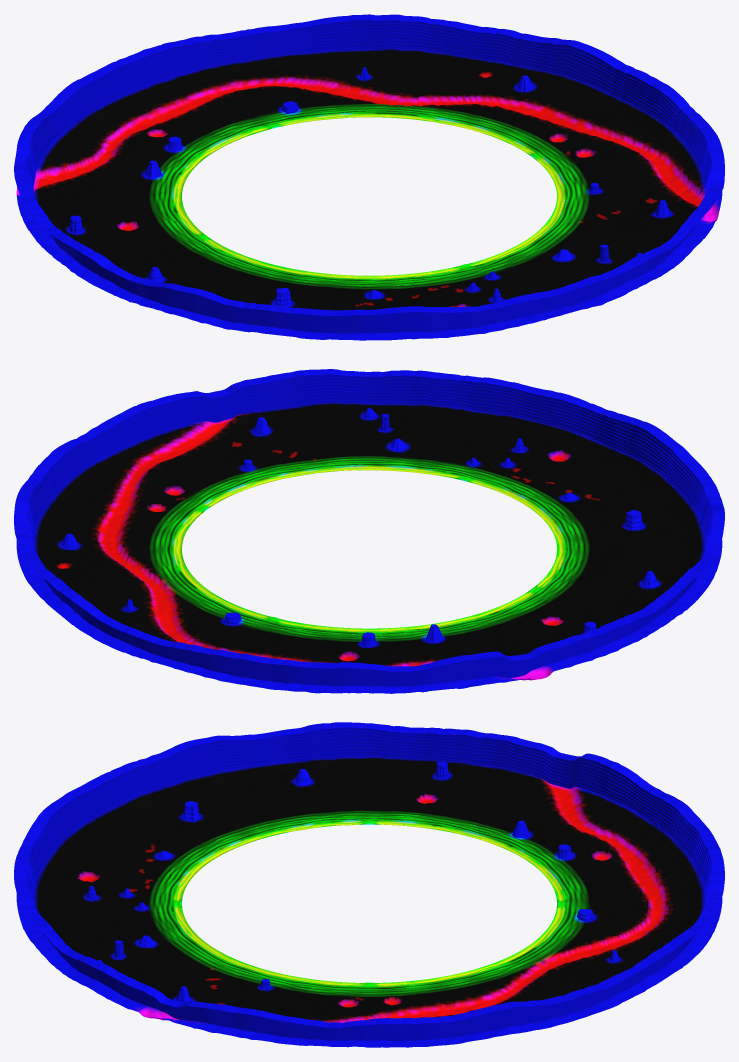
Rendered from concordia_terrain_exterior.glb.
3 views of the same model, one above another, from view 1: azimuth 30°, elevation 25°; view 2: azimuth 150°, elevation 25°; view 3: azimuth 270°, elevation 25° (orthographic).
Parts seen in each view (by area): view 1: EXT_Cliffs_Chunk_13_14_LOD0, EXT_Cliffs_Chunk_11_15_LOD0, EXT_Cliffs_Chunk_14_13_LOD0, EXT_Cliffs_Chunk_15_11_LOD0, EXT_Cliffs_Chunk_8_16_LOD0, EXT_Cliffs_Chunk_7_16_LOD0, EXT_Cliffs_Chunk_9_16_LOD0, EXT_Cliffs_Chunk_5_1_LOD0, EXT_Cliffs_Chunk_3_2_LOD0, EXT_Cliffs_Chunk_12_15_LOD0, EXT_Cliffs_Chunk_5_15_LOD0, TRN_Exterior_Chunk_8_15_LOD0 (+120 smaller); view 2: EXT_Cliffs_Chunk_13_2_LOD0, EXT_Cliffs_Chunk_14_3_LOD0, EXT_Cliffs_Chunk_11_1_LOD0, EXT_Cliffs_Chunk_9_0_LOD0, EXT_Cliffs_Chunk_15_5_LOD0, EXT_Cliffs_Chunk_8_0_LOD0, EXT_Cliffs_Chunk_7_0_LOD0, EXT_Cliffs_Chunk_2_13_LOD0, EXT_Cliffs_Chunk_5_1_LOD0, EXT_Cliffs_Chunk_5_15_LOD0, EXT_Cliffs_Chunk_3_14_LOD0, EXT_Cliffs_Chunk_12_1_LOD0 (+120 smaller); view 3: EXT_Cliffs_Chunk_0_8_LOD0, EXT_Cliffs_Chunk_0_7_LOD0, EXT_Cliffs_Chunk_1_5_LOD0, EXT_Cliffs_Chunk_1_11_LOD0, EXT_Cliffs_Chunk_2_13_LOD0, EXT_Cliffs_Chunk_2_3_LOD0, EXT_Cliffs_Chunk_0_9_LOD0, EXT_Cliffs_Chunk_3_14_LOD0, EXT_Cliffs_Chunk_3_2_LOD0, EXT_Cliffs_Chunk_1_10_LOD0, EXT_Cliffs_Chunk_1_4_LOD0, EXT_Cliffs_Chunk_15_11_LOD0 (+121 smaller).
Part boxes in pixels (bbox=[...]): EXT_Cliffs_Chunk_13_14_LOD0: bbox=[398, 16, 457, 53]; EXT_Cliffs_Chunk_11_15_LOD0: bbox=[300, 16, 353, 52]; EXT_Cliffs_Chunk_14_13_LOD0: bbox=[459, 25, 518, 61]; EXT_Cliffs_Chunk_15_11_LOD0: bbox=[550, 40, 600, 83]; EXT_Cliffs_Chunk_8_16_LOD0: bbox=[173, 34, 220, 73]; EXT_Cliffs_Chunk_7_16_LOD0: bbox=[137, 42, 182, 82]; EXT_Cliffs_Chunk_9_16_LOD0: bbox=[211, 29, 260, 64]; EXT_Cliffs_Chunk_5_1_LOD0: bbox=[384, 306, 438, 332]; EXT_Cliffs_Chunk_3_2_LOD0: bbox=[281, 306, 340, 333]; EXT_Cliffs_Chunk_12_15_LOD0: bbox=[344, 14, 397, 49]; EXT_Cliffs_Chunk_5_15_LOD0: bbox=[76, 69, 114, 114]; TRN_Exterior_Chunk_8_15_LOD0: bbox=[185, 66, 244, 97]; EXT_Cliffs_Chunk_13_2_LOD0: bbox=[280, 369, 340, 406]; EXT_Cliffs_Chunk_14_3_LOD0: bbox=[220, 376, 279, 416]; EXT_Cliffs_Chunk_11_1_LOD0: bbox=[384, 370, 438, 404]; EXT_Cliffs_Chunk_9_0_LOD0: bbox=[478, 377, 527, 416]; EXT_Cliffs_Chunk_15_5_LOD0: bbox=[138, 395, 188, 436]; EXT_Cliffs_Chunk_8_0_LOD0: bbox=[518, 386, 565, 425]; EXT_Cliffs_Chunk_7_0_LOD0: bbox=[556, 394, 601, 435]; EXT_Cliffs_Chunk_2_13_LOD0: bbox=[459, 651, 518, 680]; EXT_Cliffs_Chunk_5_1_LOD0: bbox=[624, 420, 663, 466]; EXT_Cliffs_Chunk_5_15_LOD0: bbox=[300, 661, 354, 686]; EXT_Cliffs_Chunk_3_14_LOD0: bbox=[398, 656, 457, 686]; EXT_Cliffs_Chunk_12_1_LOD0: bbox=[341, 370, 394, 403]; EXT_Cliffs_Chunk_0_8_LOD0: bbox=[347, 722, 391, 757]; EXT_Cliffs_Chunk_0_7_LOD0: bbox=[303, 722, 347, 758]; EXT_Cliffs_Chunk_1_5_LOD0: bbox=[214, 735, 258, 771]; EXT_Cliffs_Chunk_1_11_LOD0: bbox=[480, 734, 524, 772]; EXT_Cliffs_Chunk_2_13_LOD0: bbox=[568, 753, 612, 794]; EXT_Cliffs_Chunk_2_3_LOD0: bbox=[126, 752, 170, 795]; EXT_Cliffs_Chunk_0_9_LOD0: bbox=[391, 726, 435, 758]; EXT_Cliffs_Chunk_3_14_LOD0: bbox=[612, 768, 656, 814]; EXT_Cliffs_Chunk_3_2_LOD0: bbox=[82, 771, 126, 814]; EXT_Cliffs_Chunk_1_10_LOD0: bbox=[435, 734, 479, 764]; EXT_Cliffs_Chunk_1_4_LOD0: bbox=[170, 736, 214, 776]; EXT_Cliffs_Chunk_15_11_LOD0: bbox=[480, 1001, 524, 1032].
Size of what is drawn, in the model's own units: 804 by 47.63 by 804.
Materials: 3 (3 with a texture image).
